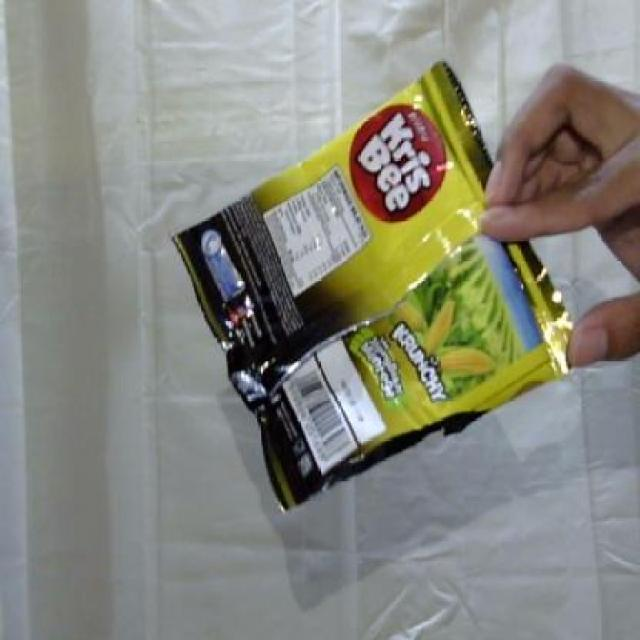Plastic: (172, 59, 569, 512)
